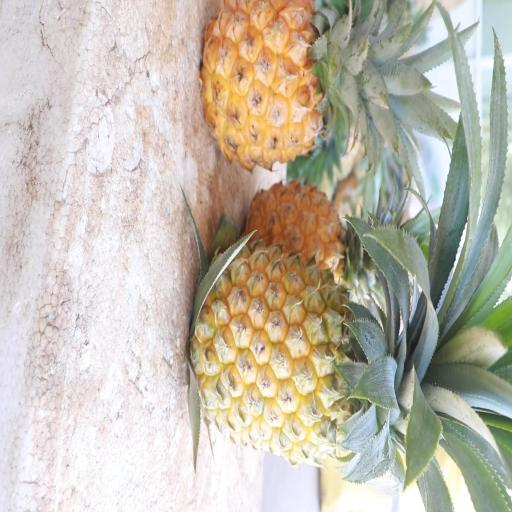Pineapple - v8 v1: (187, 240, 442, 474), (196, 0, 381, 176), (241, 164, 376, 294)
